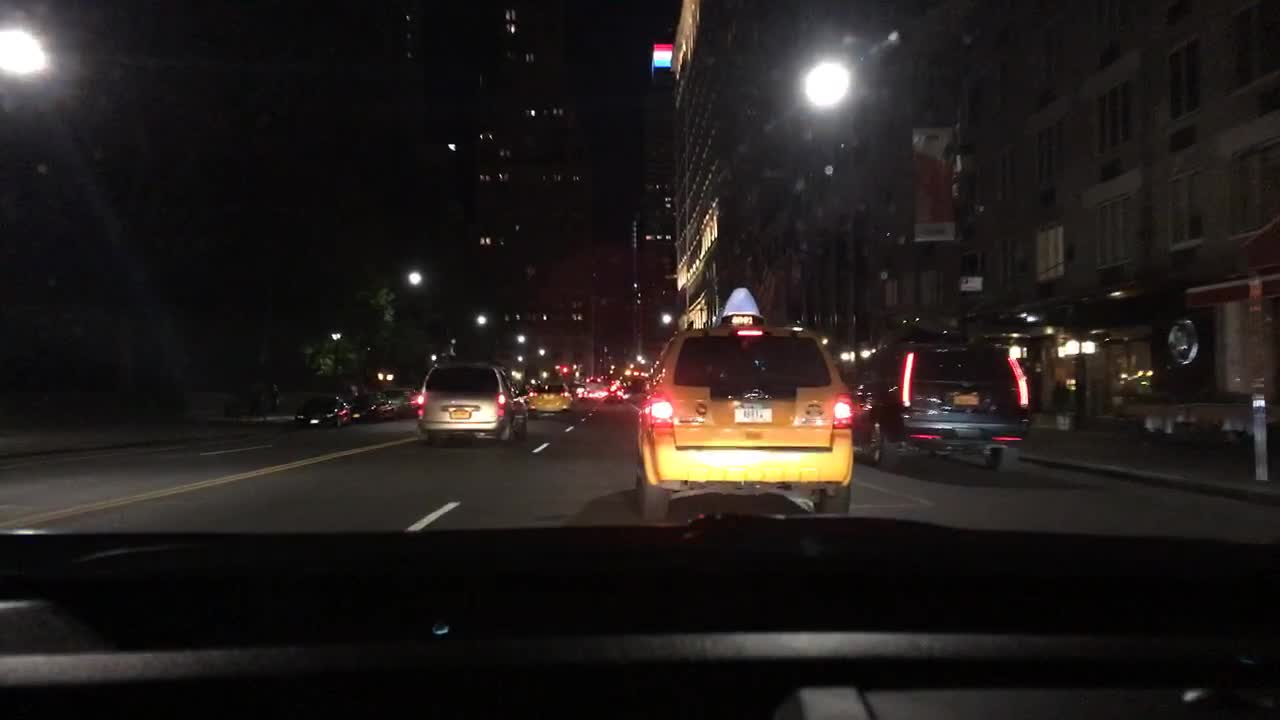car: (632, 285, 856, 525), (846, 336, 1031, 477), (417, 359, 530, 449), (292, 393, 354, 431), (527, 381, 576, 416), (347, 389, 396, 423), (383, 384, 420, 417), (602, 381, 627, 404), (574, 381, 589, 398), (588, 384, 606, 398)
person: (1050, 375, 1074, 428), (267, 378, 283, 416)
traffic light: (559, 366, 571, 378)
